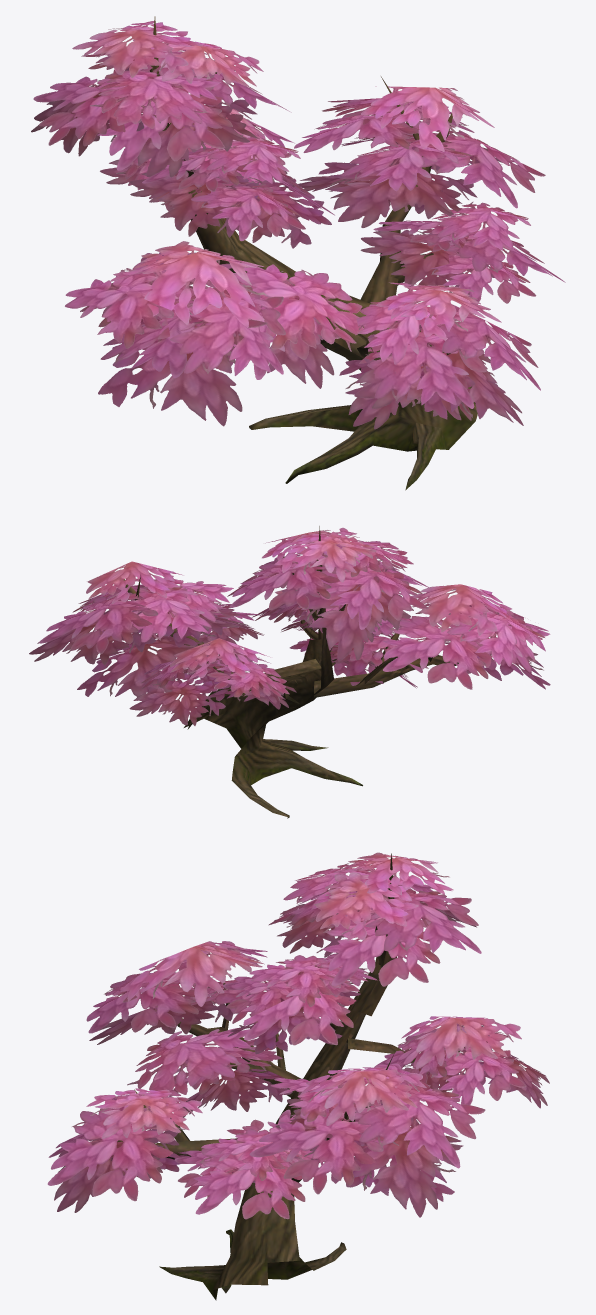
Rendered from S_Tree_Red012_A2.FBX.
3 views of the same model, one above another, from view 1: azimuth 30°, elevation 25°; view 2: azimuth 150°, elevation 25°; view 3: azimuth 270°, elevation 25° (orthographic). The views are drawn at different scales.
Visible parts, largest first — view 1: S_Tree_Red012_A2_2, S_Tree_Red012_A2_1; view 2: S_Tree_Red012_A2_2, S_Tree_Red012_A2_1; view 3: S_Tree_Red012_A2_2, S_Tree_Red012_A2_1.
Part boxes in pixels (box(x1,y1,x2,y2)): S_Tree_Red012_A2_2: box(31, 21, 565, 429); S_Tree_Red012_A2_1: box(150, 16, 477, 490); S_Tree_Red012_A2_2: box(29, 527, 550, 725); S_Tree_Red012_A2_1: box(123, 526, 458, 818); S_Tree_Red012_A2_2: box(47, 852, 549, 1219); S_Tree_Red012_A2_1: box(117, 853, 464, 1300).
Size of the model in its own units: 684 by 452 by 637.
